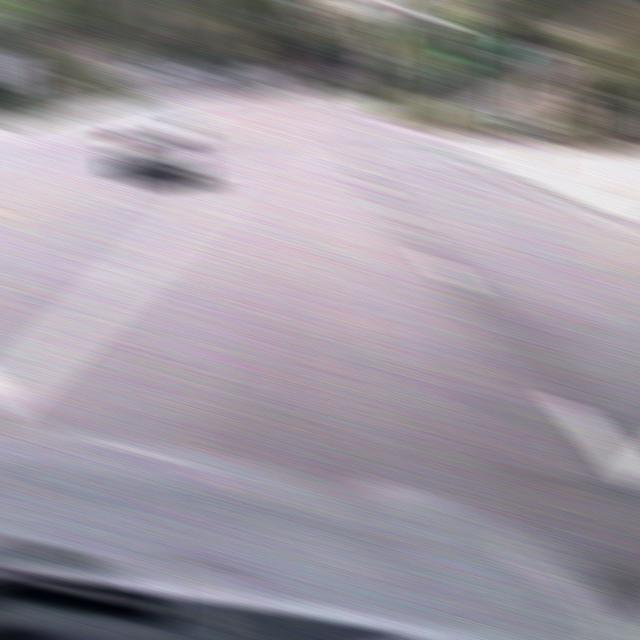noRightTurn: (527, 42, 568, 78)
